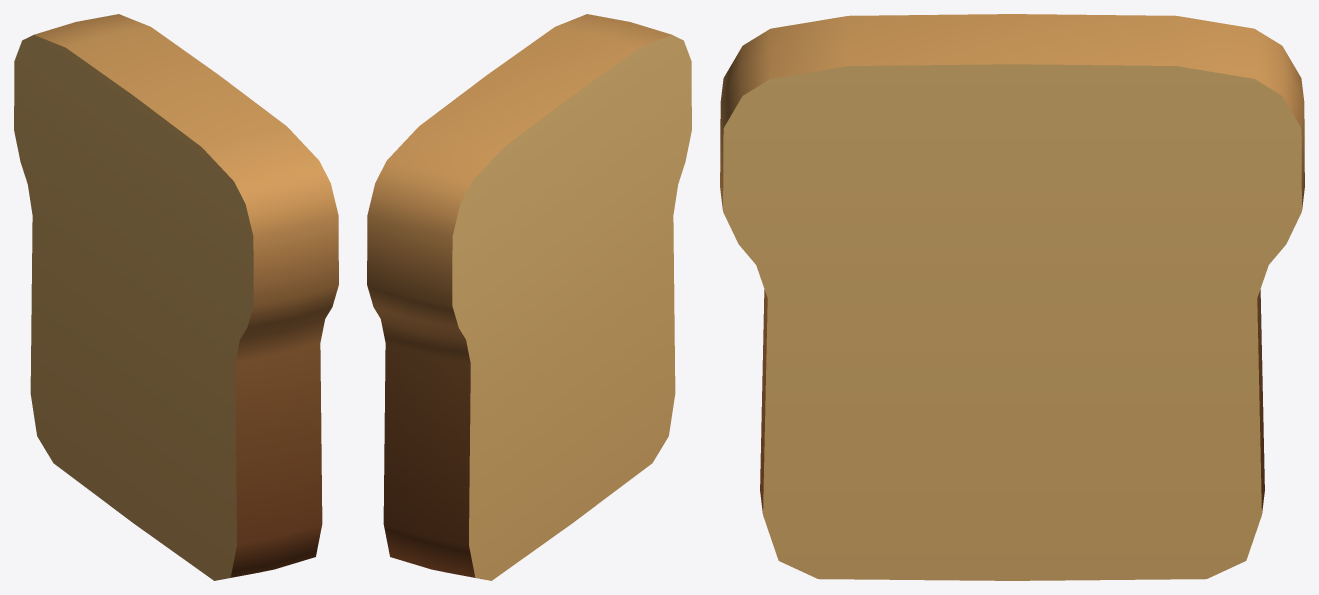
The model's file is Loaf_Slice_01.glb.
The picture shows the model from 3 angles, left to right: view 1: azimuth 30°, elevation 25°; view 2: azimuth 150°, elevation 25°; view 3: azimuth 270°, elevation 25°; orthographic projection. The views are drawn at different scales.
Parts seen in each view (by area): view 1: Loaf_Slice_01; view 2: Loaf_Slice_01; view 3: Loaf_Slice_01.
Part boxes in pixels (left/top/right/bottom): Loaf_Slice_01: left=14, top=14, right=338, bottom=580; Loaf_Slice_01: left=367, top=14, right=691, bottom=580; Loaf_Slice_01: left=720, top=14, right=1304, bottom=580.
Size of the model in its own units: 0.0748 by 0.3624 by 0.3678.
Materials: 1 (1 with a texture image).
